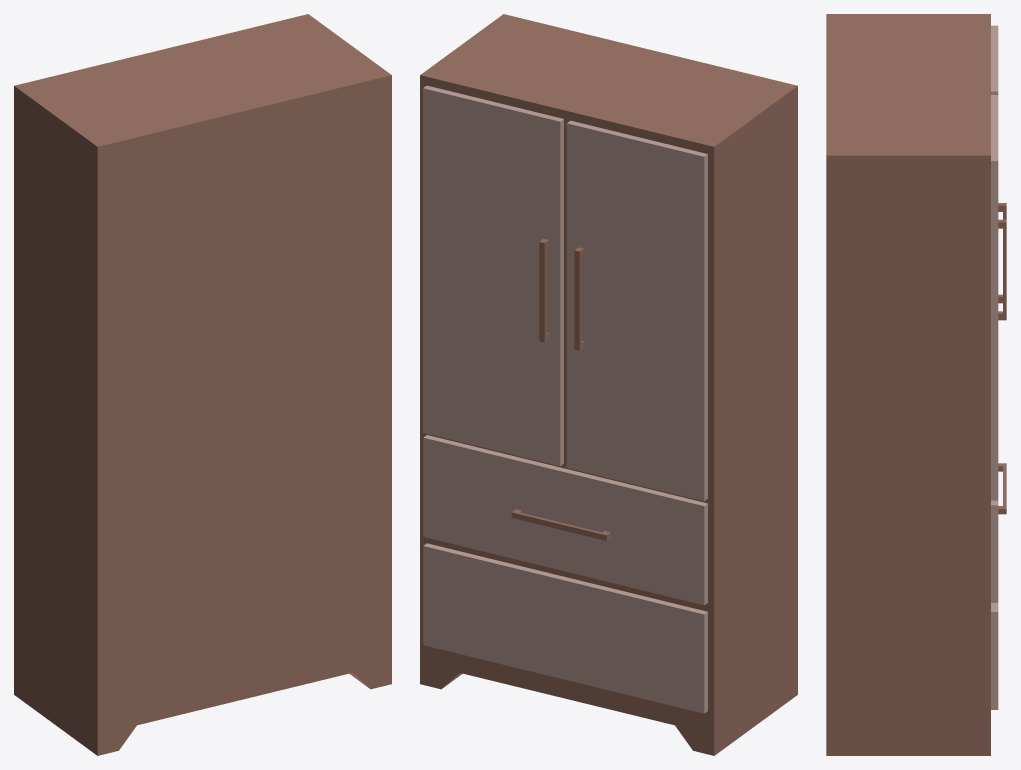
Rendered from Closet.glb.
3 renders of one model, left to right at view 1: azimuth 30°, elevation 25°; view 2: azimuth 150°, elevation 25°; view 3: azimuth 270°, elevation 25°, orthographic.
Parts seen in each view (by area): view 1: Box001.001; view 2: Box001.001, Box003.001, Box002.001, Box005.001, Box004.001, Box006.001, Box007.001, Box008.001; view 3: Box001.001, Box002.001, Box005.001, Box004.001, Box003.001, Box006.001.
Part boxes in pixels (x1,y1,x2,y2): Box001.001: (14, 14, 391, 755); Box001.001: (420, 14, 797, 755); Box003.001: (566, 120, 707, 501); Box002.001: (423, 85, 563, 466); Box005.001: (423, 543, 707, 713); Box004.001: (423, 435, 707, 605); Box006.001: (539, 239, 548, 342); Box007.001: (574, 247, 583, 350); Box008.001: (511, 509, 610, 540); Box001.001: (826, 14, 990, 755); Box002.001: (991, 95, 998, 500); Box005.001: (991, 603, 998, 709); Box004.001: (991, 500, 998, 602); Box003.001: (991, 25, 998, 94); Box006.001: (998, 219, 1006, 320).
Size of the model in its own units: 1.07 by 2.12 by 0.5771.
